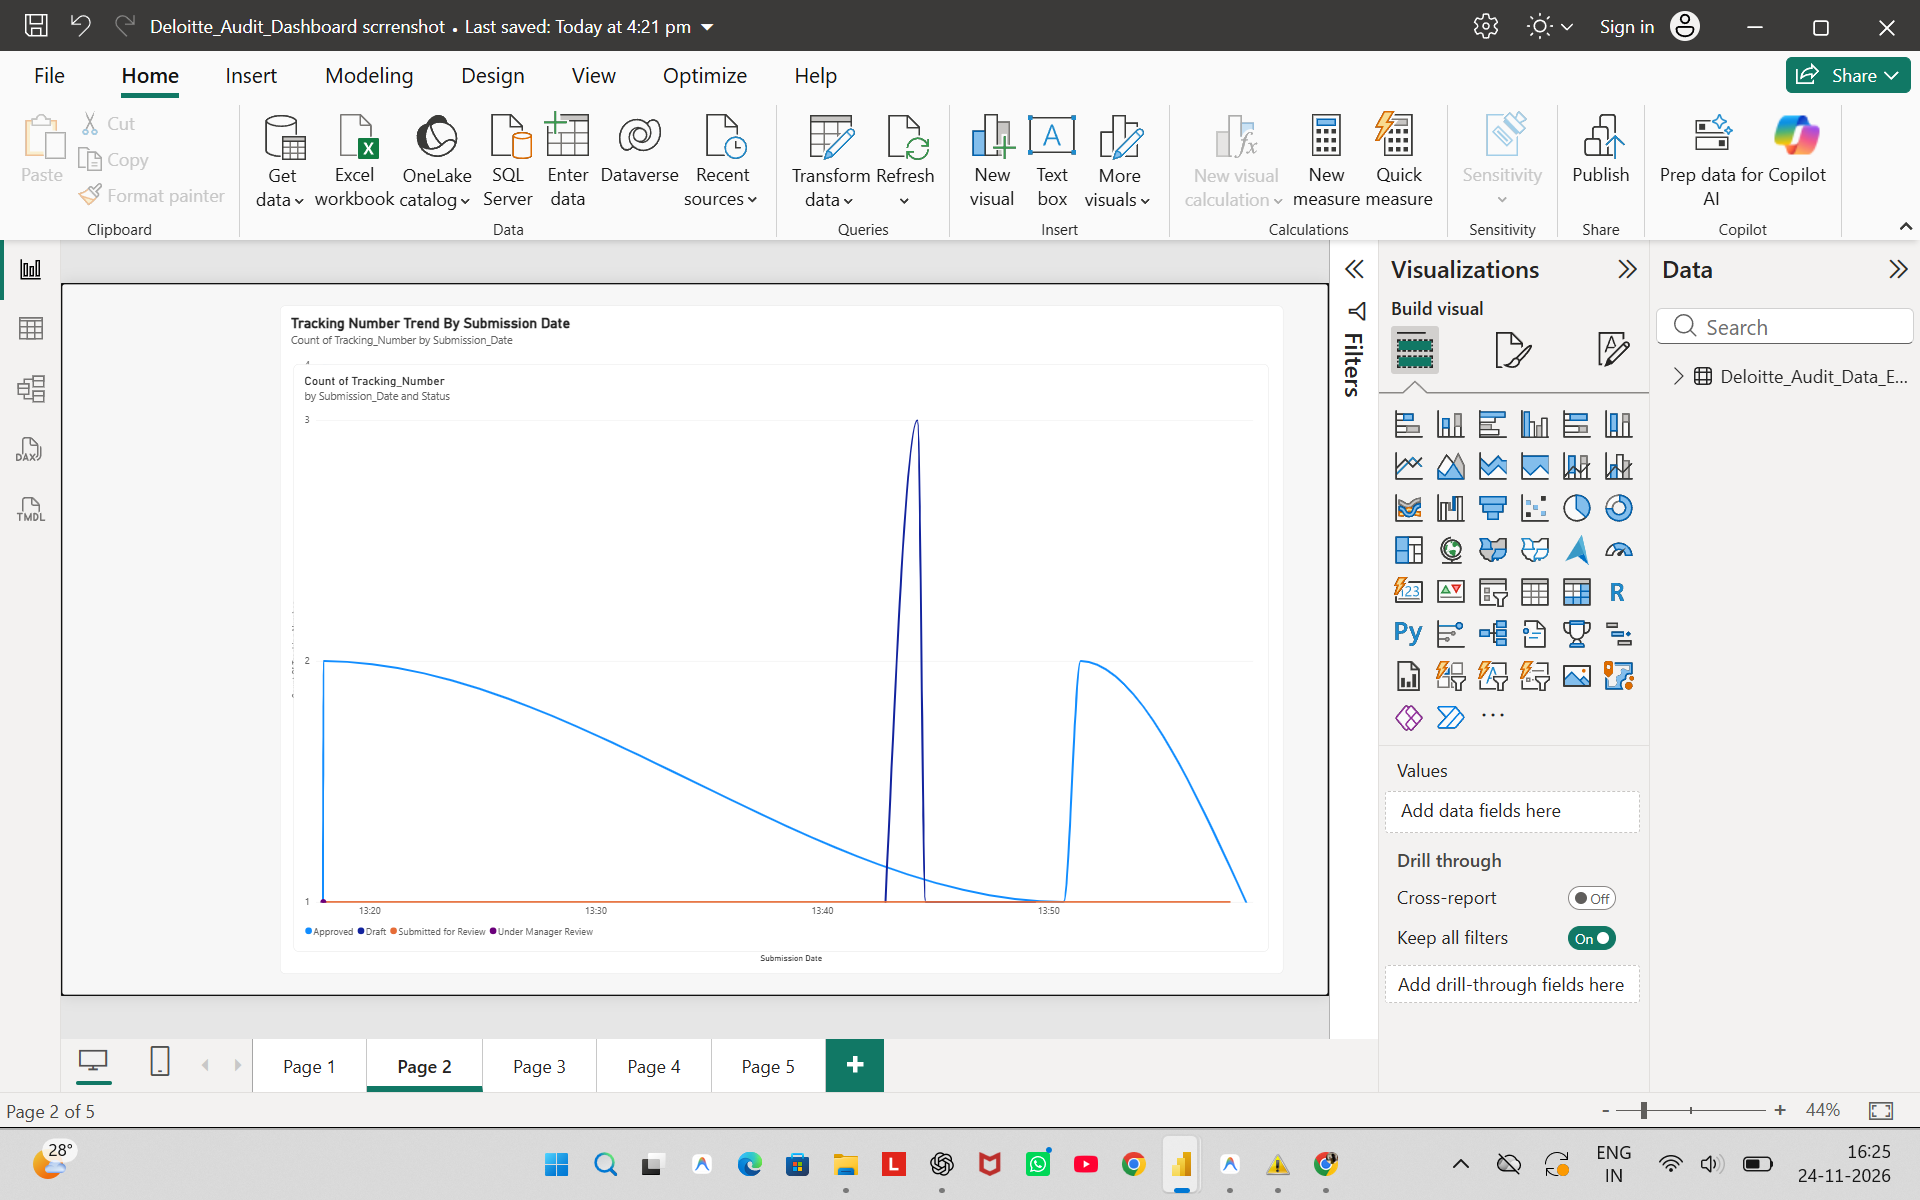

The dashboard page shown, as its layout file describes it:
{"tool":"powerbi","page":{"name":"Page 2","canvas":[1920,1080],"ordinal":1},"visuals":[{"type":"lineChart","title":"Tracking Number Trend By Submission Date","fields":{"Category":["Deloitte_Audit_Data_Export_2026.Submission_Date"],"Y":["CountNonNull(Deloitte_Audit_Data_Export_2026.Tracking_Number)"]},"box":[331.7,34,1519.4,1012],"z":0},{"type":"lineChart","fields":{"Category":["Deloitte_Audit_Data_Export_2026.Submission_Date"],"Series":["Deloitte_Audit_Data_Export_2026.Status"],"Y":["CountNonNull(Deloitte_Audit_Data_Export_2026.Tracking_Number)"]},"box":[351.5,121.9,1476.9,890.1],"z":1}]}

Visuals, with their boxes on the page's 1920x1080 design canvas (x1, y1, x2, y2). These are canvas units, not pixel positions in the 1920x1200 screenshot, which may show the page scaled, cropped or inside an application window:
"Tracking Number Trend By Submission Date" lineChart: [left=332, top=34, right=1851, bottom=1046]
lineChart - Deloitte_Audit_Data_Export_2026.Submission_Date x Deloitte_Audit_Data_Export_2026.Status: [left=352, top=122, right=1828, bottom=1012]
